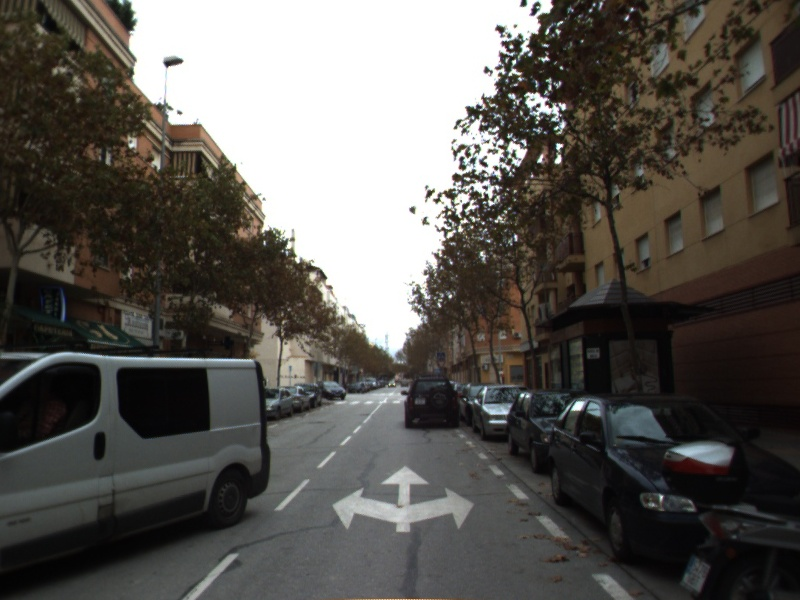STRAIGHT_LEFT_RIGHT: (330, 462, 477, 534)
